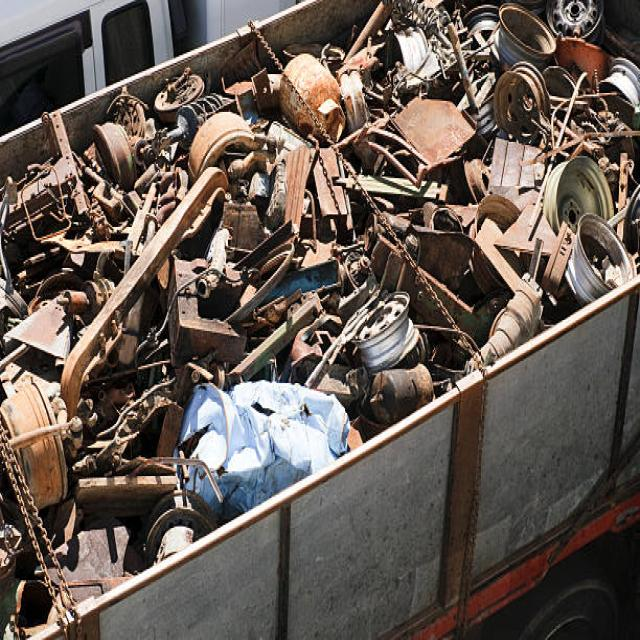metal: (75, 151, 313, 385), (486, 14, 580, 181), (393, 88, 480, 177)
